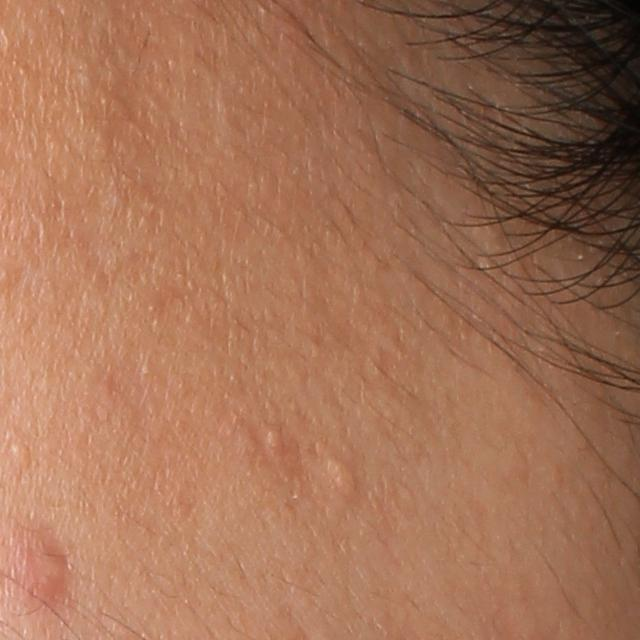comedo: (323, 458, 356, 499), (265, 428, 285, 454)
papule: (5, 527, 82, 609)
